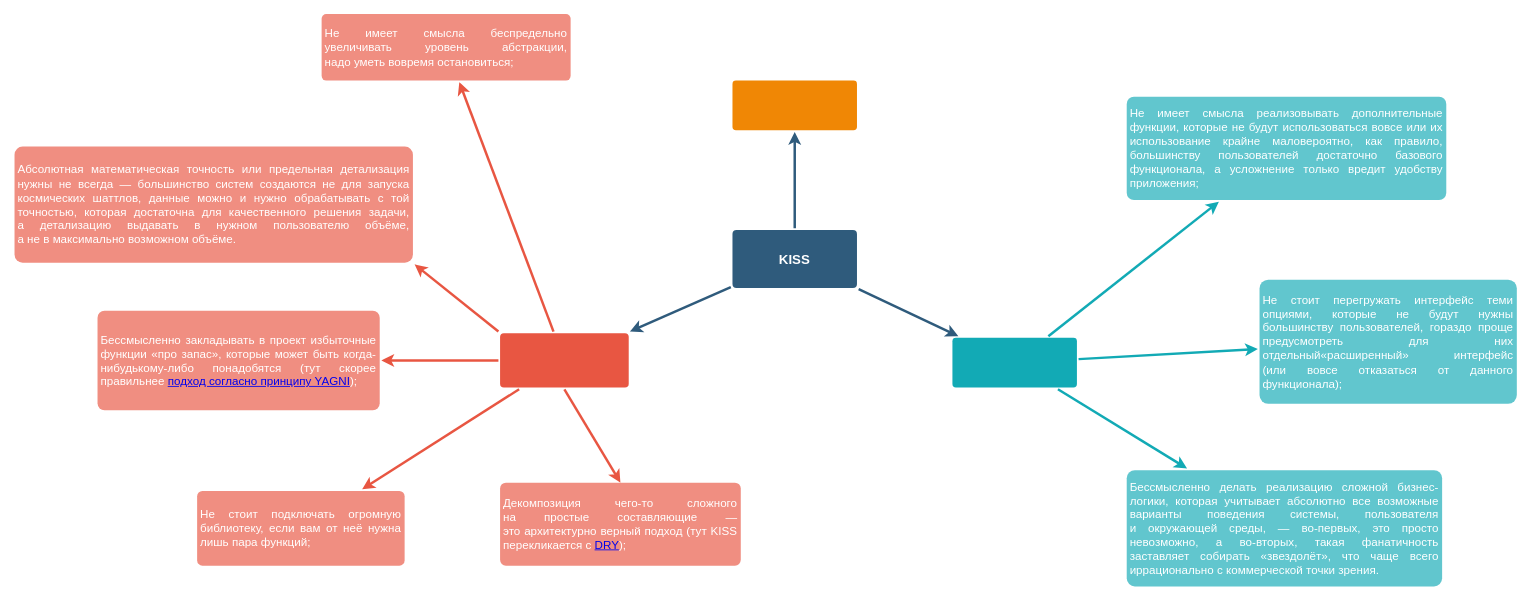
Image size: 1531x601. Some labels were removed from this diagram. Here are the shapes that lost their labels. From the top down, the centre of each, then its label:
At (794,105): "Делайте вещи проще".
At (564,360): "В программировании".
At (1014,362): "В проектировании".
